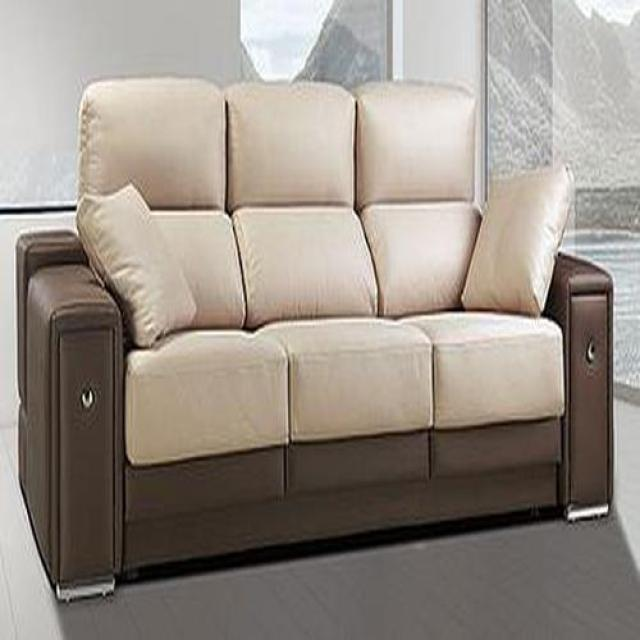sofa: (15, 78, 614, 603)
